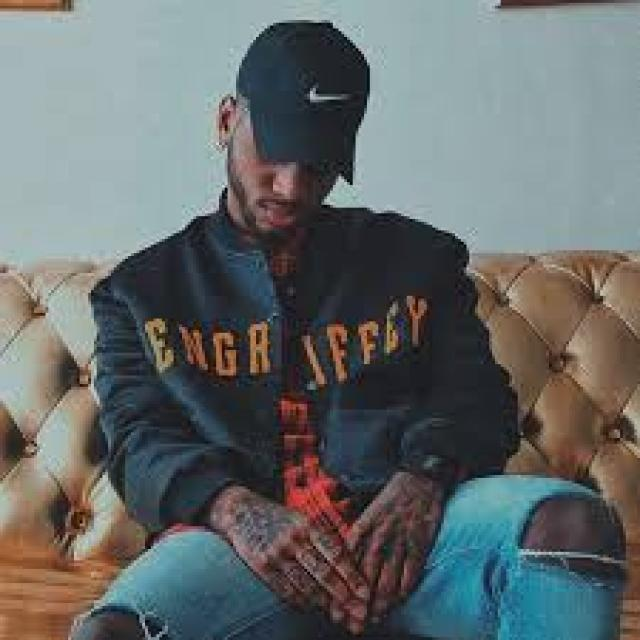cap: (230, 0, 383, 210)
